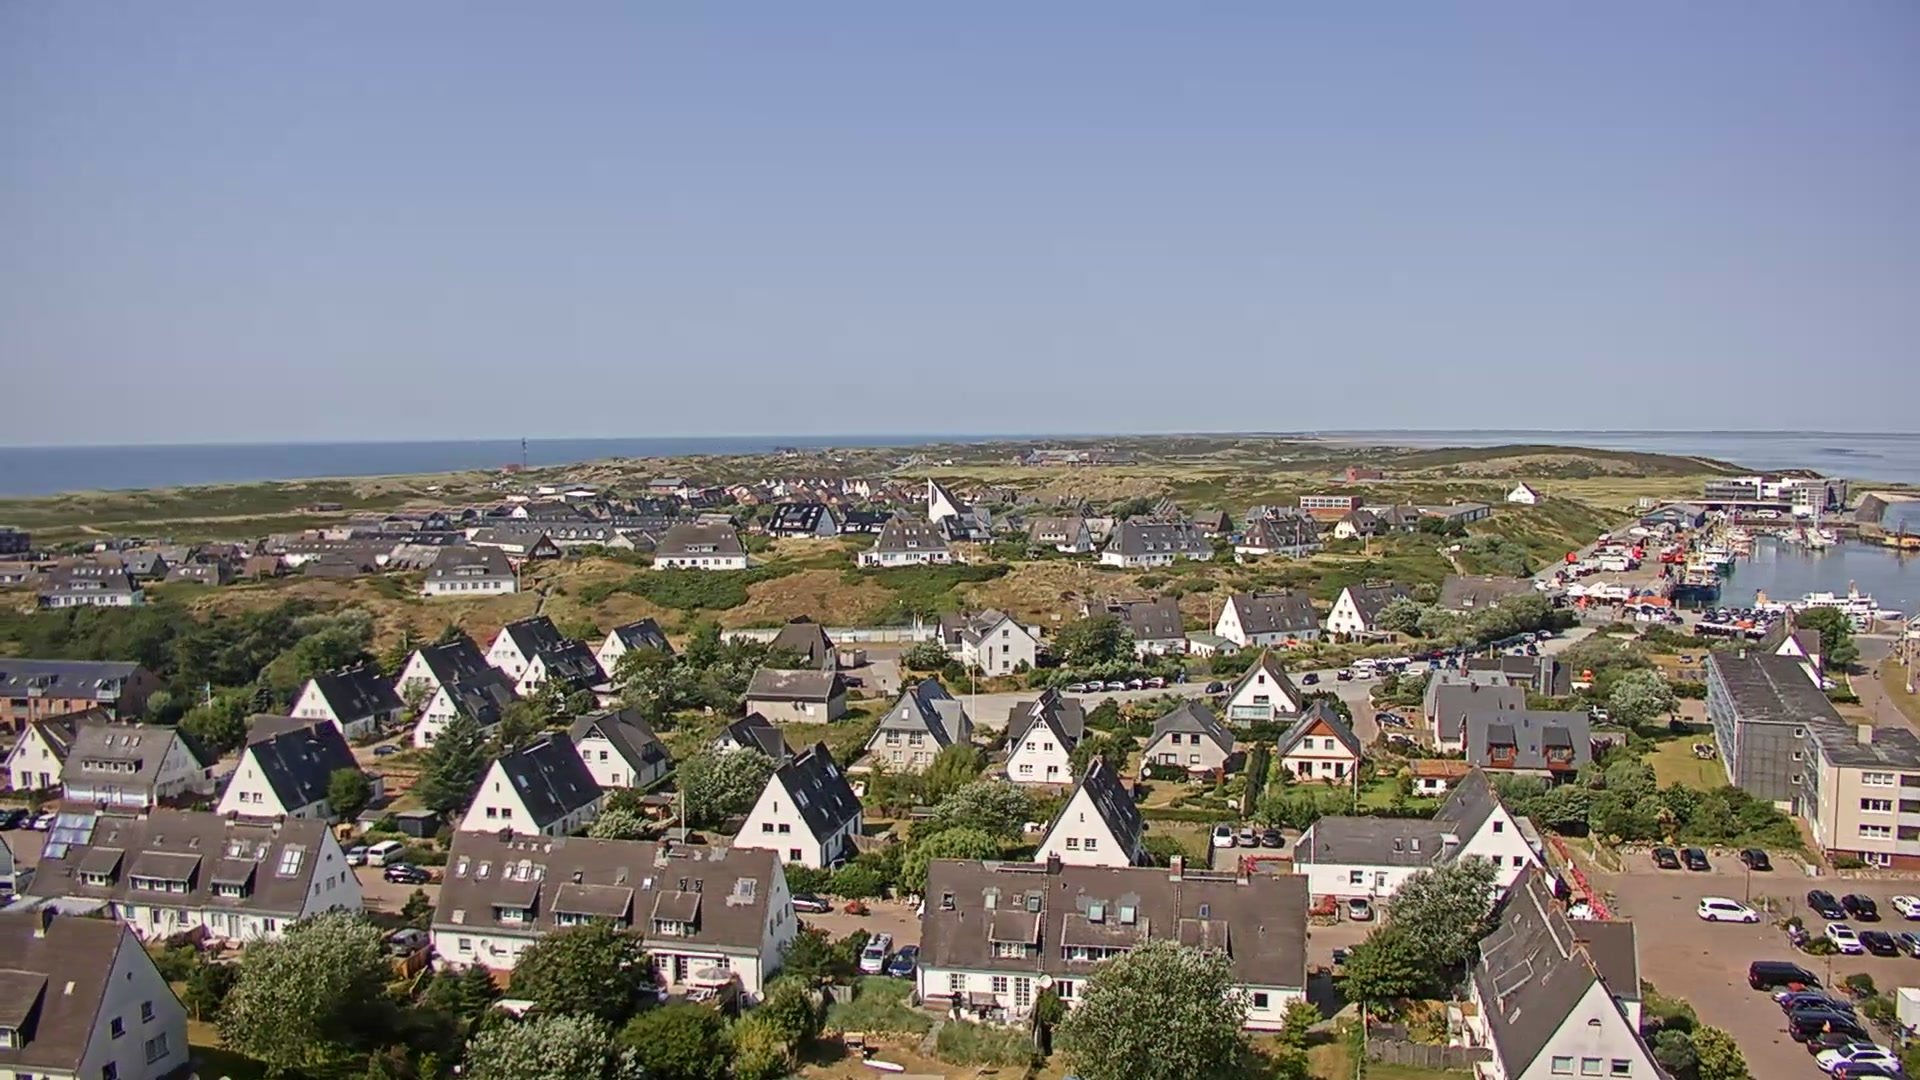human: (1176, 670, 1186, 684)
land: (1815, 1041, 1901, 1073), (1745, 958, 1822, 992), (1788, 1010, 1869, 1042), (1697, 897, 1759, 924), (856, 931, 893, 976), (1777, 991, 1852, 1013), (1831, 1060, 1915, 1079), (1804, 1032, 1873, 1054), (1825, 920, 1863, 955), (388, 928, 430, 957), (1806, 889, 1845, 920), (886, 943, 920, 977), (383, 861, 431, 885), (366, 839, 406, 868), (1858, 929, 1898, 957), (1769, 980, 1823, 1001), (1, 866, 36, 899), (1839, 892, 1878, 921), (787, 891, 828, 915), (1891, 928, 1920, 958), (1890, 893, 1920, 920), (1679, 847, 1711, 871), (1737, 847, 1769, 871), (1, 805, 29, 830), (1211, 824, 1235, 848), (1650, 848, 1678, 869), (1345, 899, 1371, 921), (344, 844, 368, 866), (15, 808, 39, 829), (31, 811, 57, 830), (372, 744, 401, 759), (1374, 711, 1406, 725), (1260, 827, 1282, 848), (1236, 827, 1257, 847), (1386, 731, 1415, 744), (1389, 652, 1414, 664), (1064, 681, 1088, 693), (1203, 680, 1225, 694), (1336, 666, 1354, 682), (1754, 508, 1778, 519), (1144, 676, 1168, 689), (1352, 657, 1376, 669), (1105, 680, 1127, 692), (1514, 631, 1535, 643), (1082, 680, 1104, 692), (1399, 668, 1425, 678), (1356, 665, 1370, 680), (1127, 677, 1145, 690), (1371, 655, 1393, 666), (1300, 672, 1319, 685), (1427, 657, 1441, 671), (1597, 532, 1613, 545), (844, 678, 863, 688), (1445, 657, 1458, 670), (1374, 663, 1389, 675), (1448, 645, 1466, 654), (1537, 628, 1553, 638), (1425, 648, 1443, 657), (1526, 643, 1539, 656), (1391, 662, 1406, 673), (1714, 612, 1728, 622), (1690, 604, 1701, 613), (1514, 648, 1523, 657), (1701, 613, 1711, 621), (1718, 605, 1729, 613), (1502, 641, 1514, 648), (1730, 607, 1739, 614), (1674, 617, 1684, 624), (1742, 607, 1750, 614), (1669, 610, 1677, 618), (1755, 608, 1764, 614), (1656, 606, 1666, 613), (1504, 636, 1519, 640), (1771, 609, 1779, 616), (1706, 605, 1714, 612), (1711, 611, 1718, 618), (1764, 612, 1772, 619), (1734, 614, 1742, 620)
sea: (1748, 578, 1904, 622), (1671, 547, 1722, 602), (1699, 526, 1737, 574), (1601, 571, 1640, 604), (1804, 494, 1827, 551), (1878, 533, 1920, 550)
